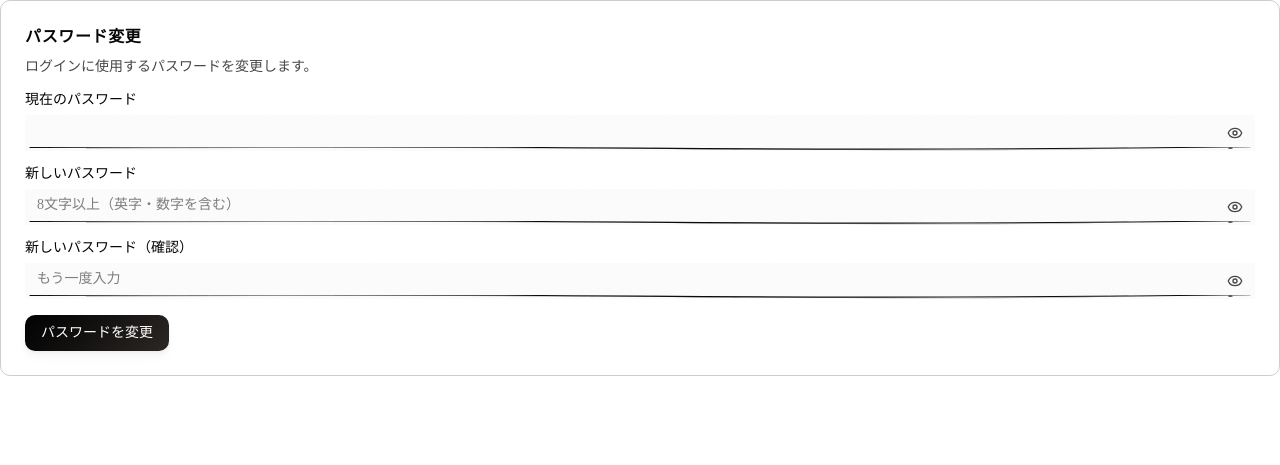
PasswordChangeForm › クライアント側検証 › 新しいパスワードと確認が不一致の場合サーバーへ送らずエラーを表示する
This screenshot has width=1280, height=465.
Type "currentPass1" into the password field labelled "現在のパスワード" at [640, 133], box top-left (25, 115), bottom-right (1255, 151)
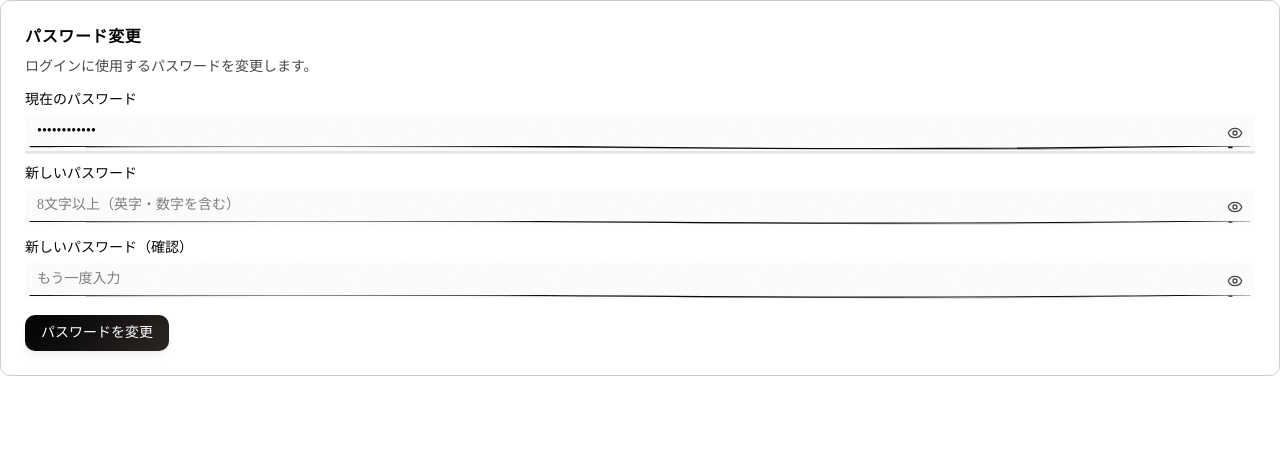
Type "newPassword1" into the password field labelled "新しいパスワード" at [640, 207], box top-left (25, 189), bottom-right (1255, 225)
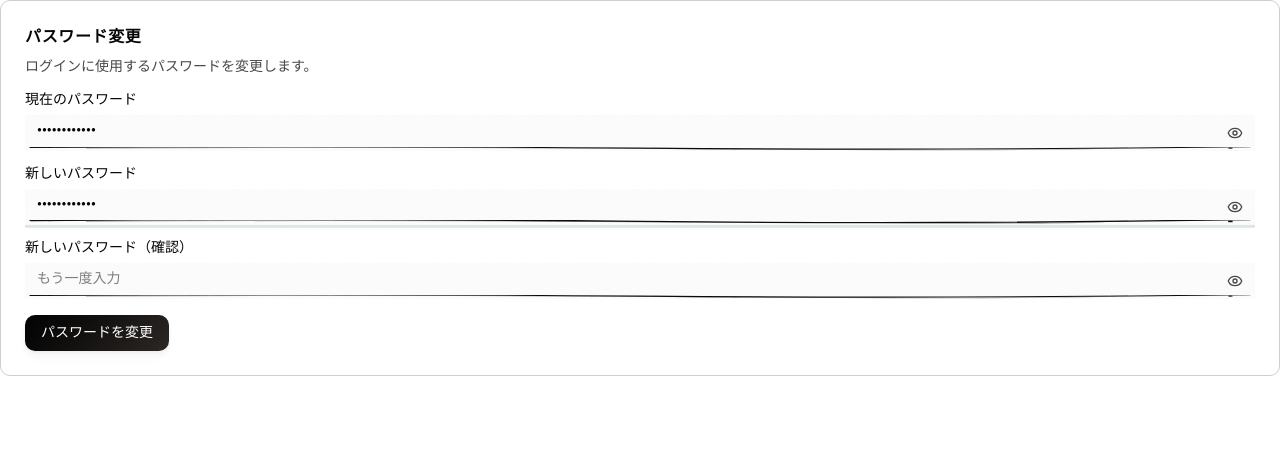
Type "differentPassword1" into the password field labelled "新しいパスワード（確認）" at [640, 281], box top-left (25, 263), bottom-right (1255, 299)
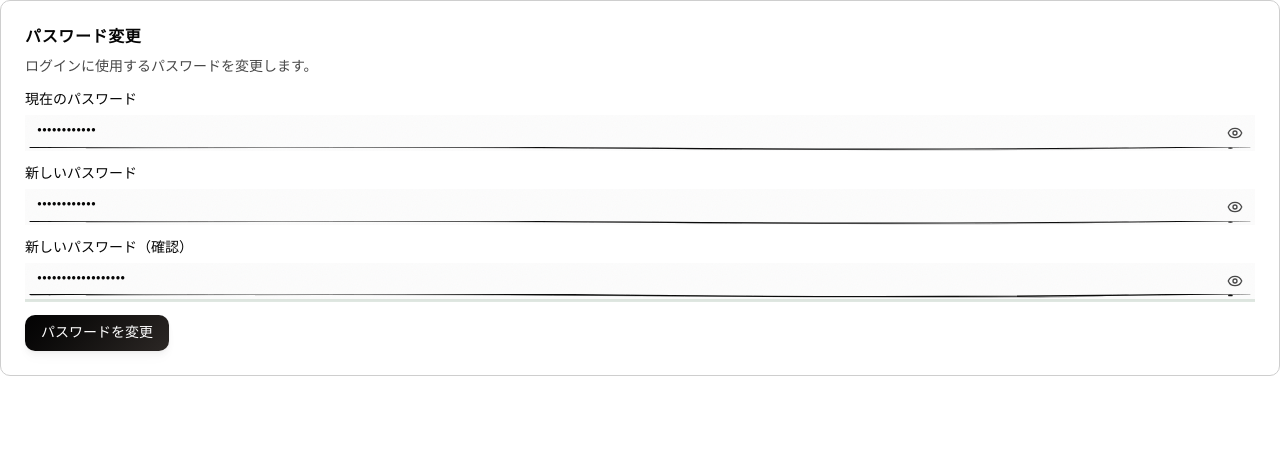
Click the button "パスワードを変更" at [97, 333], box top-left (25, 315), bottom-right (169, 351)
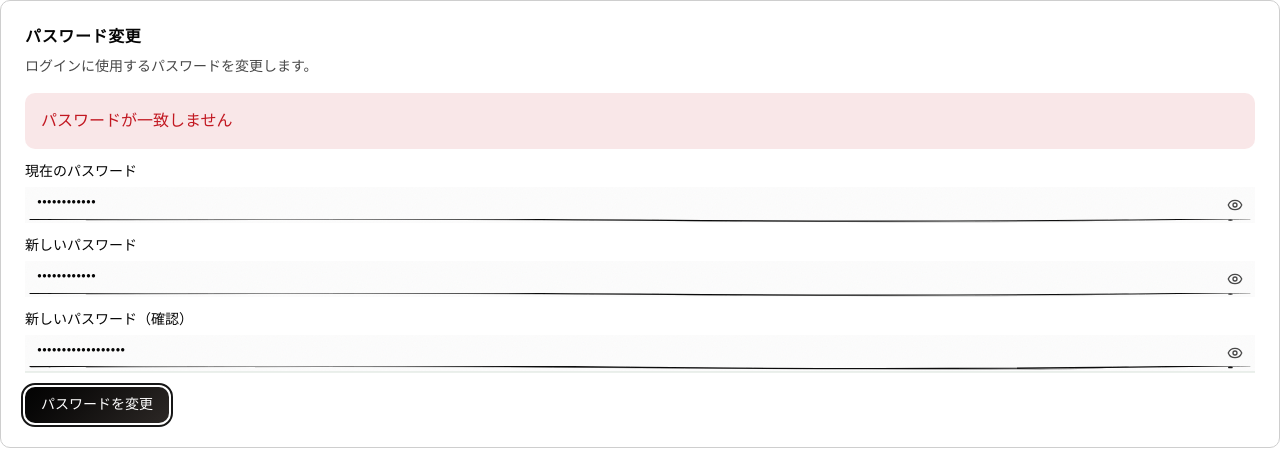
Expected: the text "パスワードが一致しません" is shown, top-left (25, 93), bottom-right (1255, 149)
